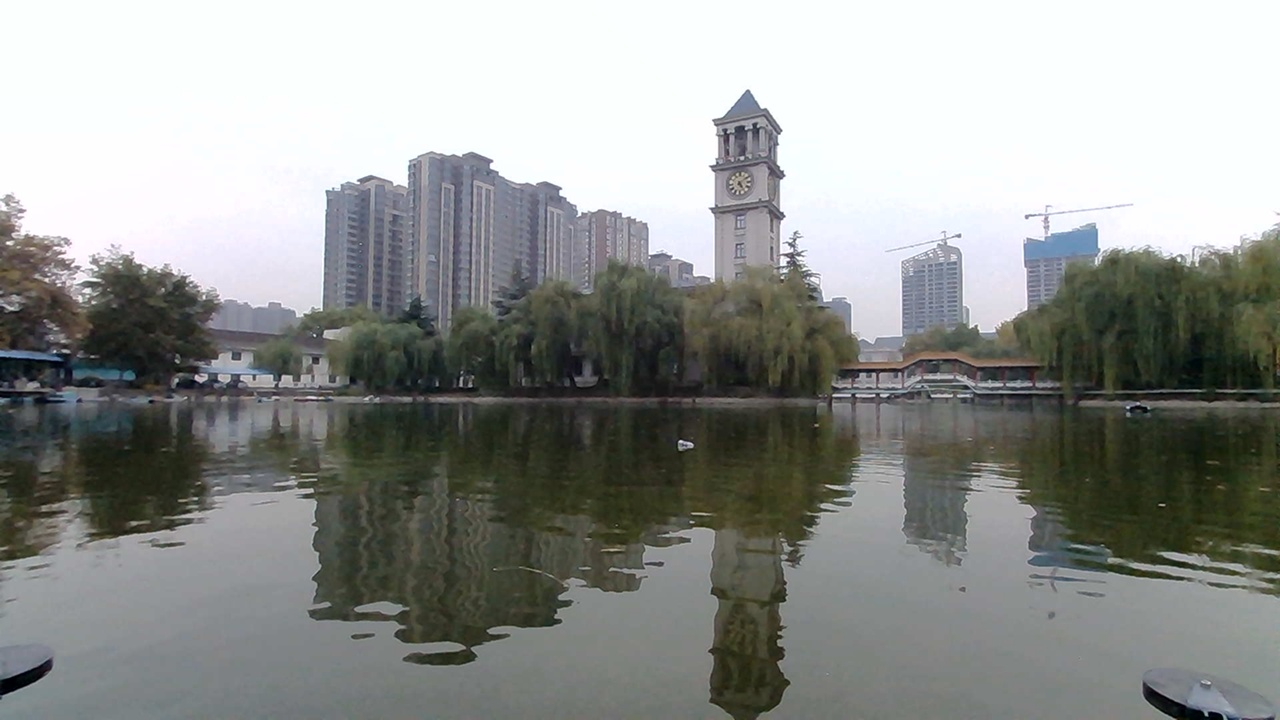bottle: (667, 426, 719, 464)
